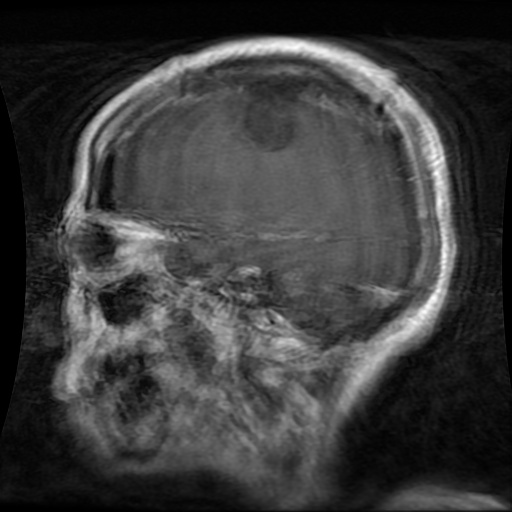glioma: (245, 78, 305, 153)
